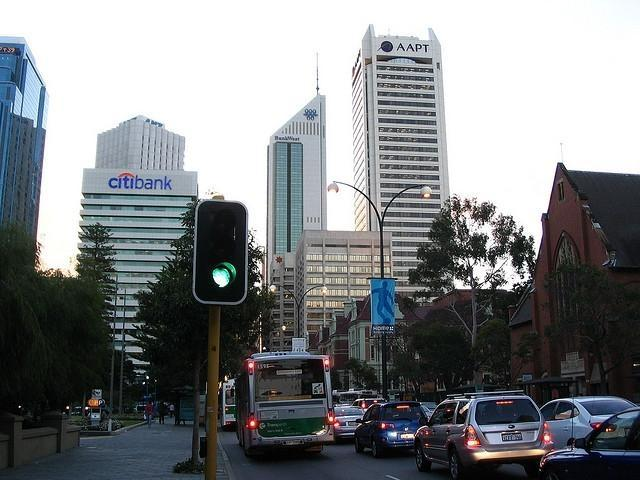bus: (230, 354, 336, 450), (218, 379, 237, 430)
car: (414, 389, 554, 480), (540, 392, 638, 450), (350, 404, 427, 460), (535, 448, 640, 479), (333, 404, 365, 442), (395, 400, 437, 419), (350, 398, 389, 411), (420, 404, 432, 422)
